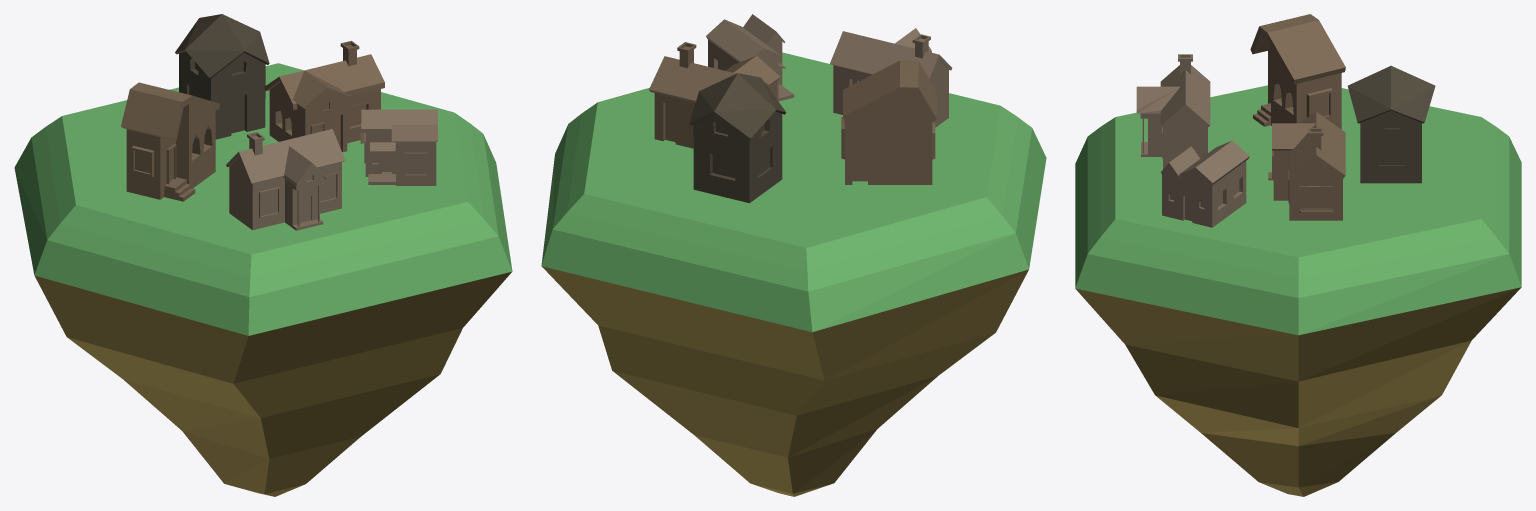
The model's file is sample_house.fbx.
The picture shows the model from 3 angles, left to right: view 1: azimuth 30°, elevation 25°; view 2: azimuth 150°, elevation 25°; view 3: azimuth 270°, elevation 25°; orthographic projection. The views are drawn at different scales.
Parts seen in each view (by area): view 1: polySurface91; view 2: polySurface91; view 3: polySurface91.
Boxes of the visible parts, x1,y1,x2,y2 form: polySurface91: (14, 14, 512, 496); polySurface91: (541, 14, 1046, 496); polySurface91: (1075, 14, 1521, 496).
Size of the model in its own units: 11.53 by 10.58 by 9.99.
